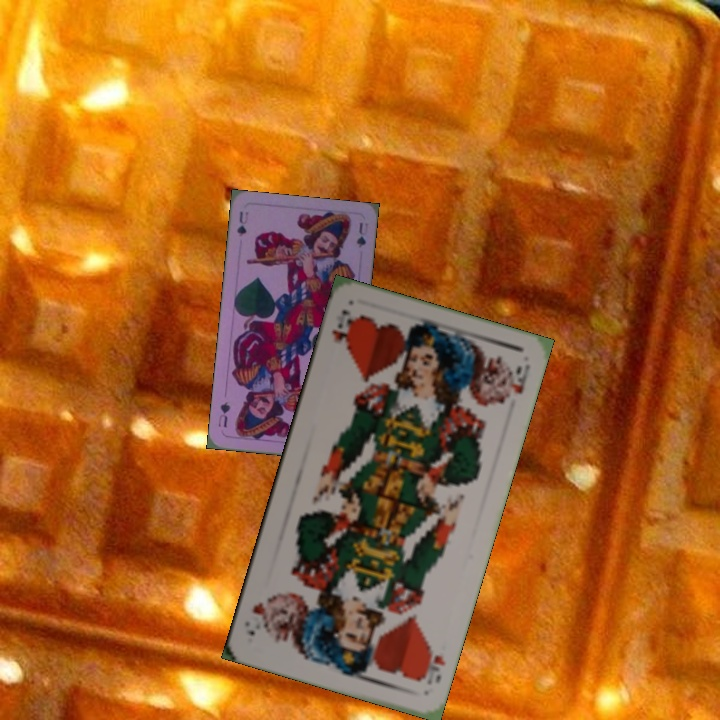GU: (233, 207, 251, 239)
HO: (415, 642, 448, 688), (328, 305, 358, 352)
